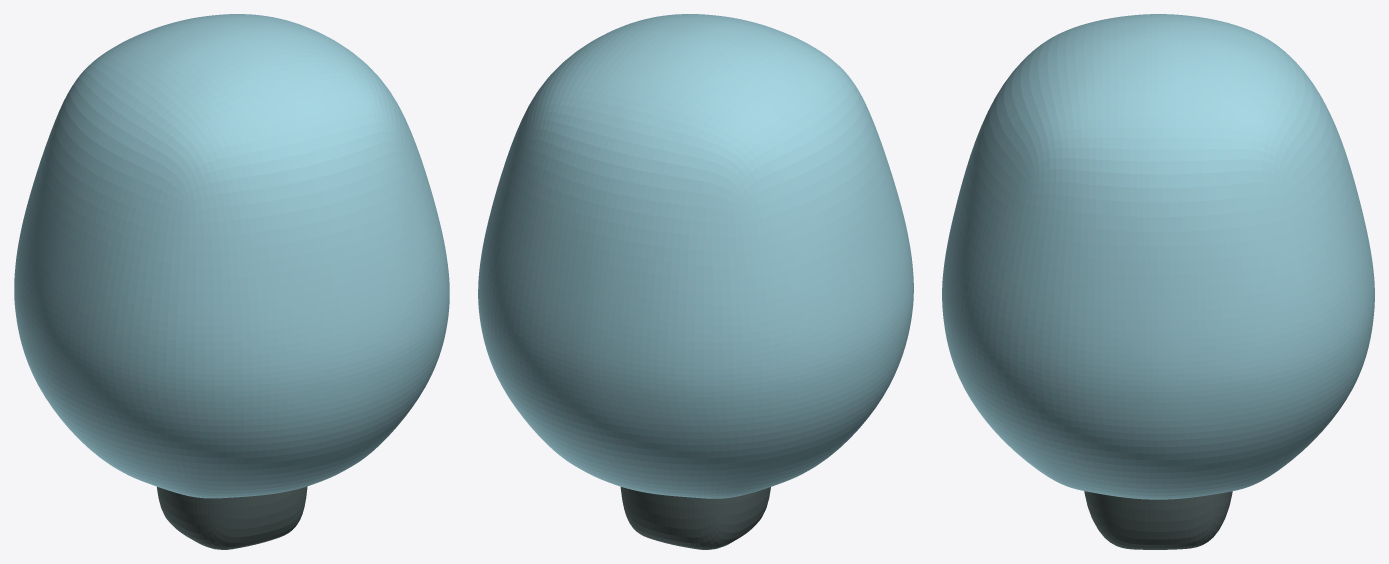
File: bluetree.fbx
3 views of the same model, side by side, from view 1: azimuth 30°, elevation 25°; view 2: azimuth 150°, elevation 25°; view 3: azimuth 270°, elevation 25° (orthographic).
Visible parts, largest first — view 1: Roundcube.006, Roundcube.007; view 2: Roundcube.006, Roundcube.007; view 3: Roundcube.006, Roundcube.007.
Part boxes in pixels (x1,y1,x2,y2): Roundcube.006: (14, 14, 449, 498); Roundcube.007: (157, 486, 307, 549); Roundcube.006: (478, 14, 913, 498); Roundcube.007: (620, 487, 770, 549); Roundcube.006: (942, 14, 1374, 499); Roundcube.007: (1084, 491, 1232, 549).
Size of the model in its own units: 199 by 252 by 199.
